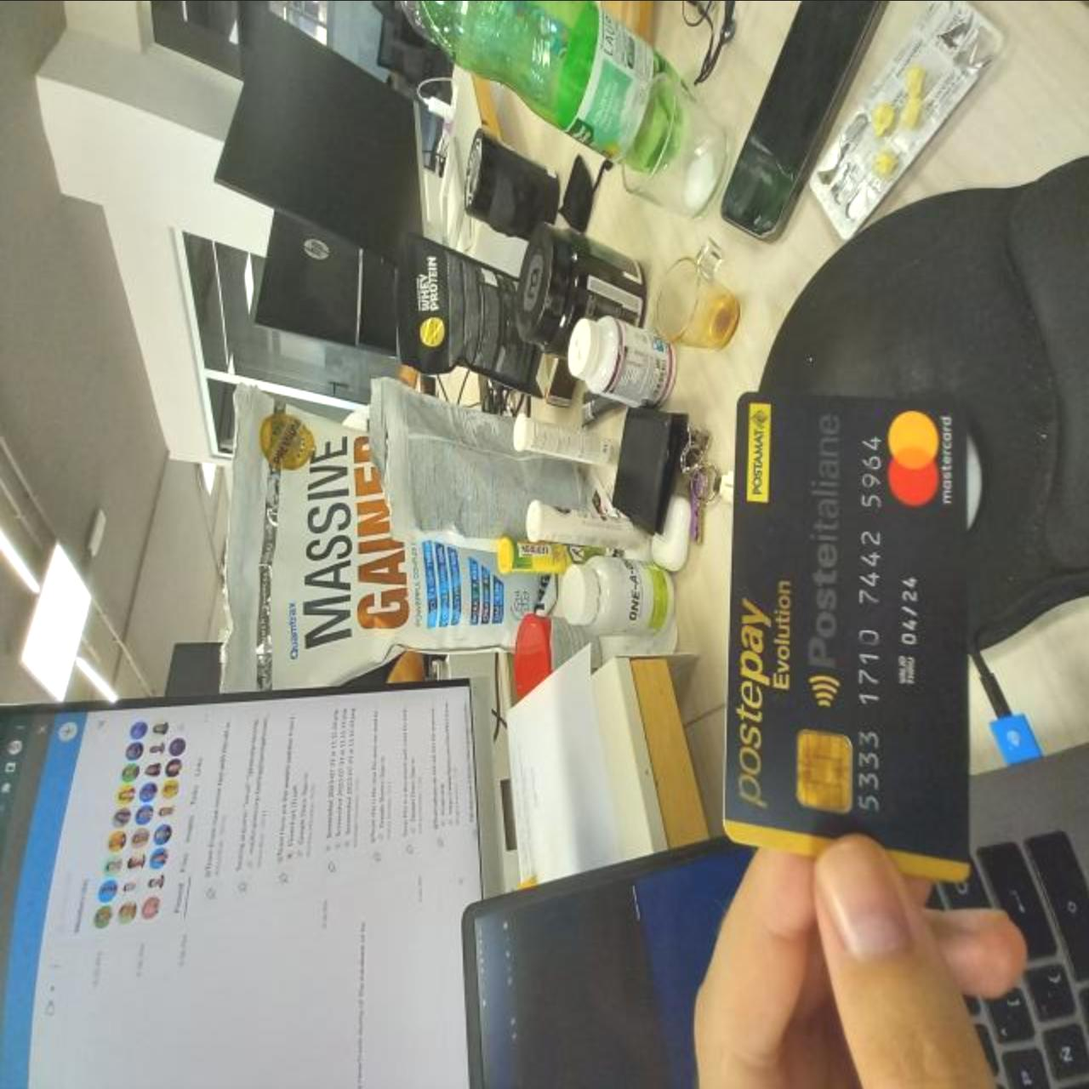credit_card: (708, 374, 973, 875)
